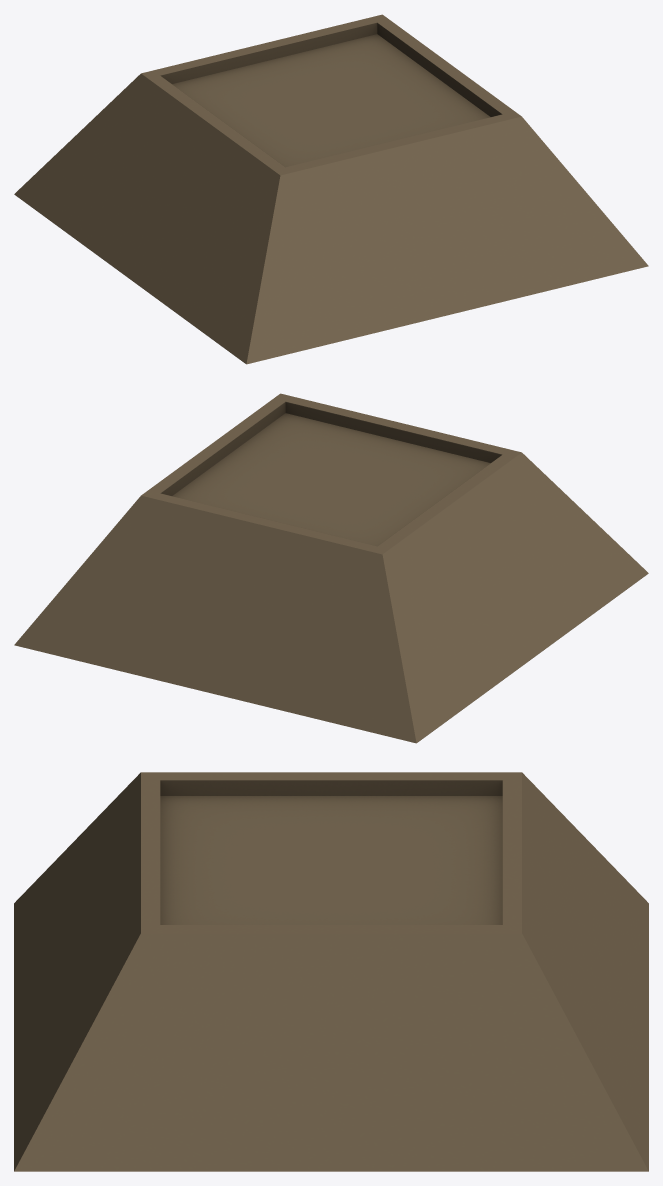
Rendered from tomb.glb.
3 renders of one model, top to bottom at view 1: azimuth 30°, elevation 25°; view 2: azimuth 150°, elevation 25°; view 3: azimuth 270°, elevation 25°, orthographic. The views are drawn at different scales.
Visible parts, largest first — view 1: Cons_tomb_0; view 2: Cons_tomb_0; view 3: Cons_tomb_0.
Part boxes in pixels (x1,y1,x2,y2): Cons_tomb_0: (14,14,648,364); Cons_tomb_0: (14,393,648,743); Cons_tomb_0: (14,772,648,1171).
Bounding box in the file's own units: 20 × 6.42 × 20.
1 material, 1 textured.
